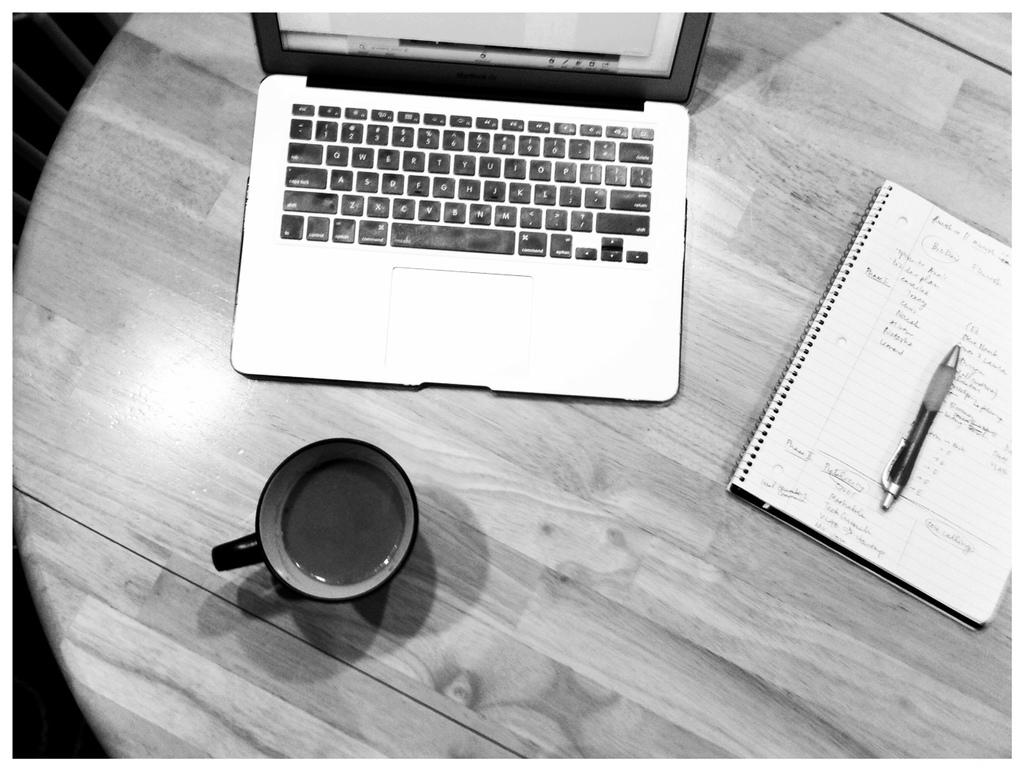pen: (877, 339, 965, 516)
